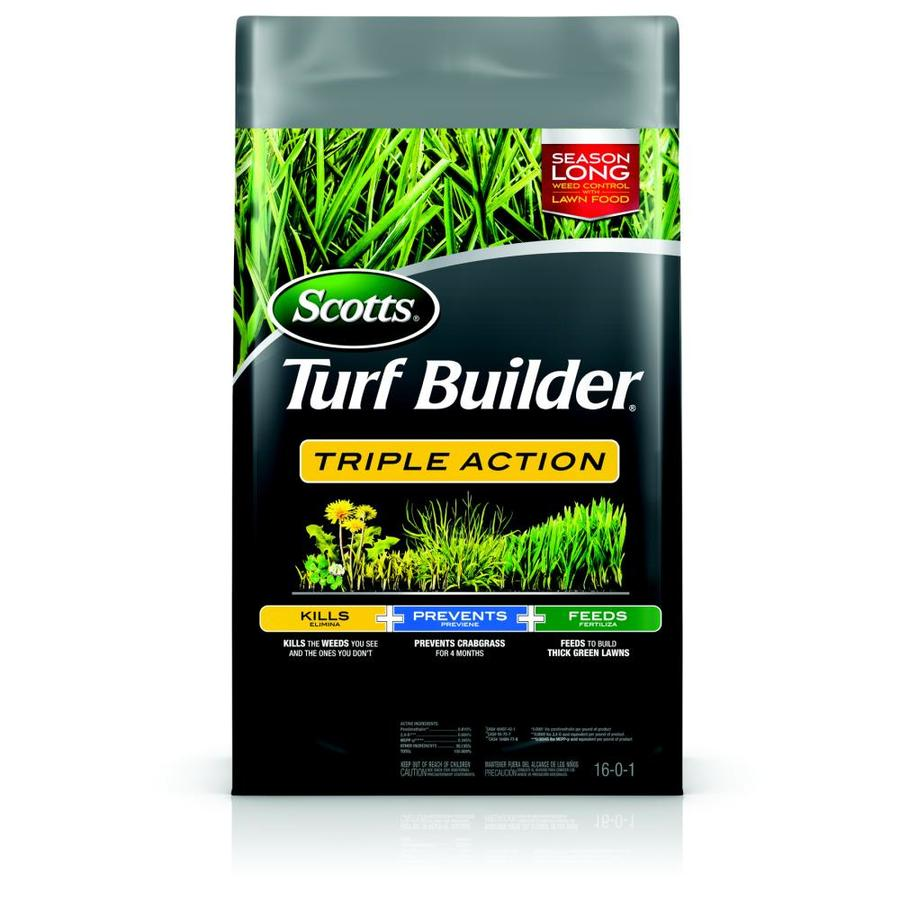crabgrass: (416, 505, 510, 606)
